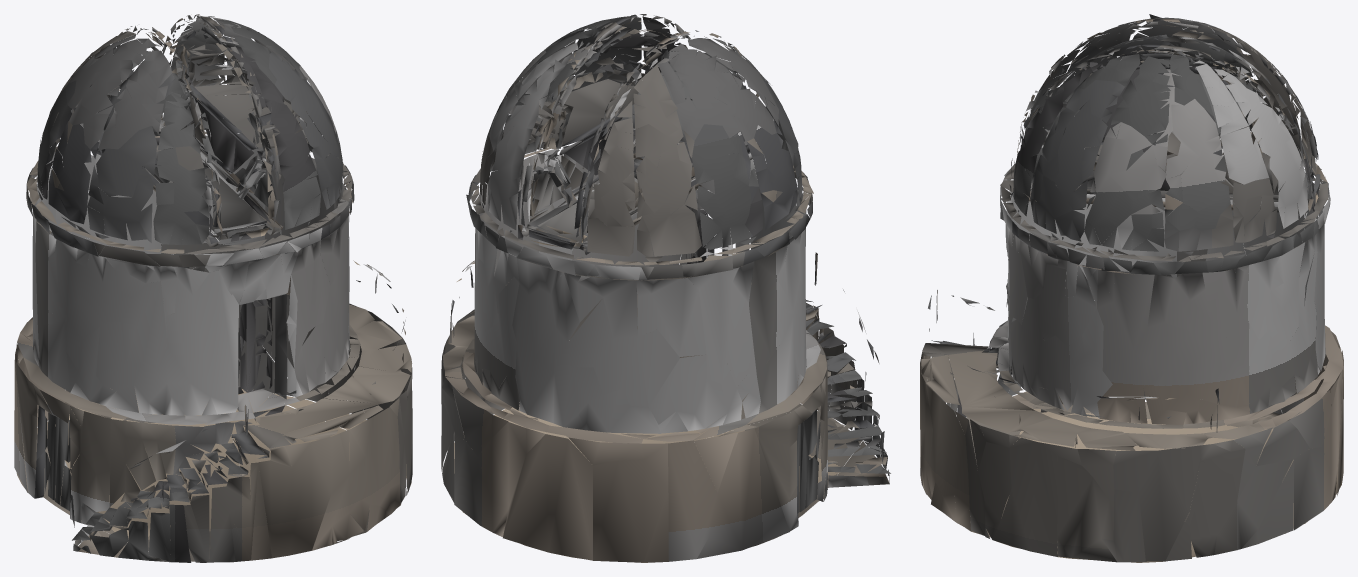
Rendered from observatory.glb.
The picture shows the model from 3 angles, left to right: view 1: azimuth 30°, elevation 25°; view 2: azimuth 150°, elevation 25°; view 3: azimuth 270°, elevation 25°; orthographic projection. The views are drawn at different scales.
Parts seen in each view (by area): view 1: LO.001; view 2: LO.001; view 3: LO.001.
Part boxes in pixels (box(x1,y1,x2,y2)): LO.001: box(14, 14, 412, 562); LO.001: box(441, 14, 890, 562); LO.001: box(920, 14, 1343, 562).
Size of the model in its own units: 1.65 by 1.91 by 1.66.
1 material, 1 textured.
